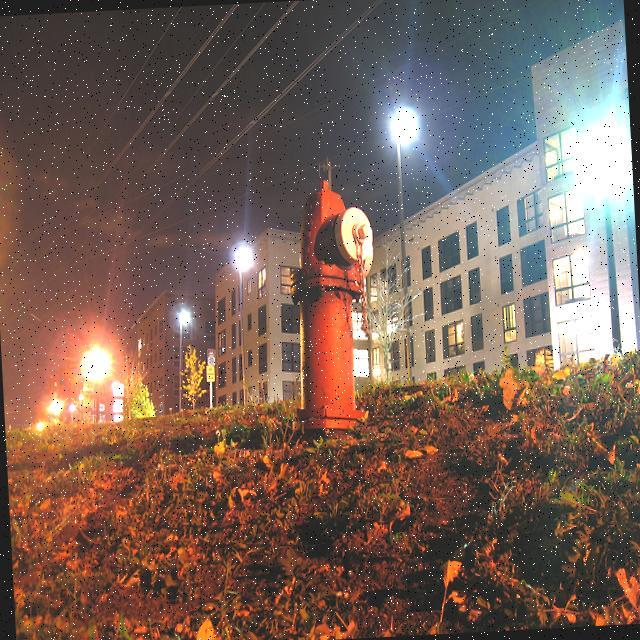fire_hydrant: (282, 177, 383, 431)
